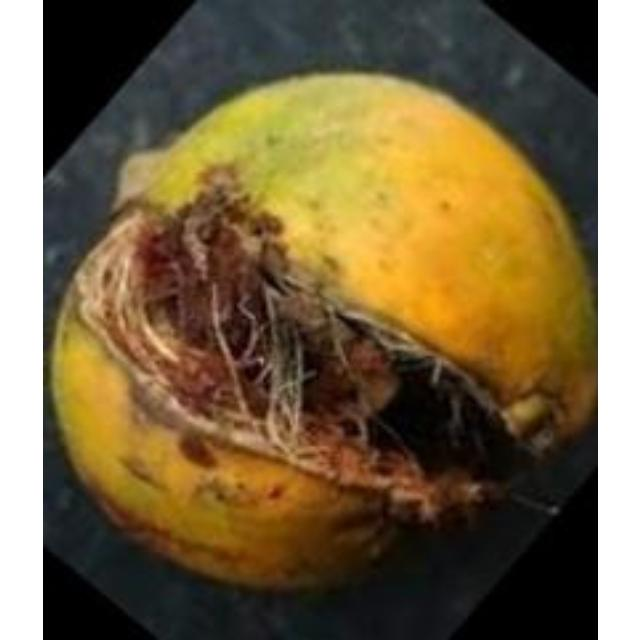damaged: (58, 72, 594, 595)
